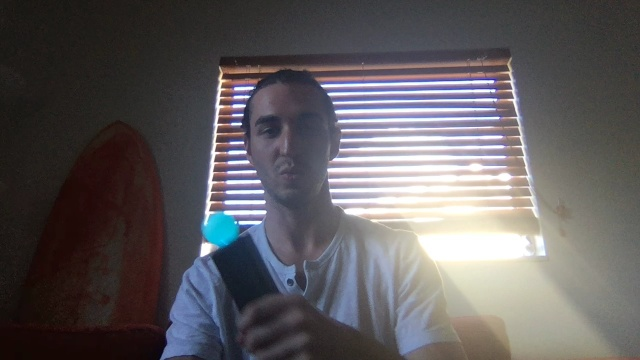wand: (204, 211, 238, 246)
